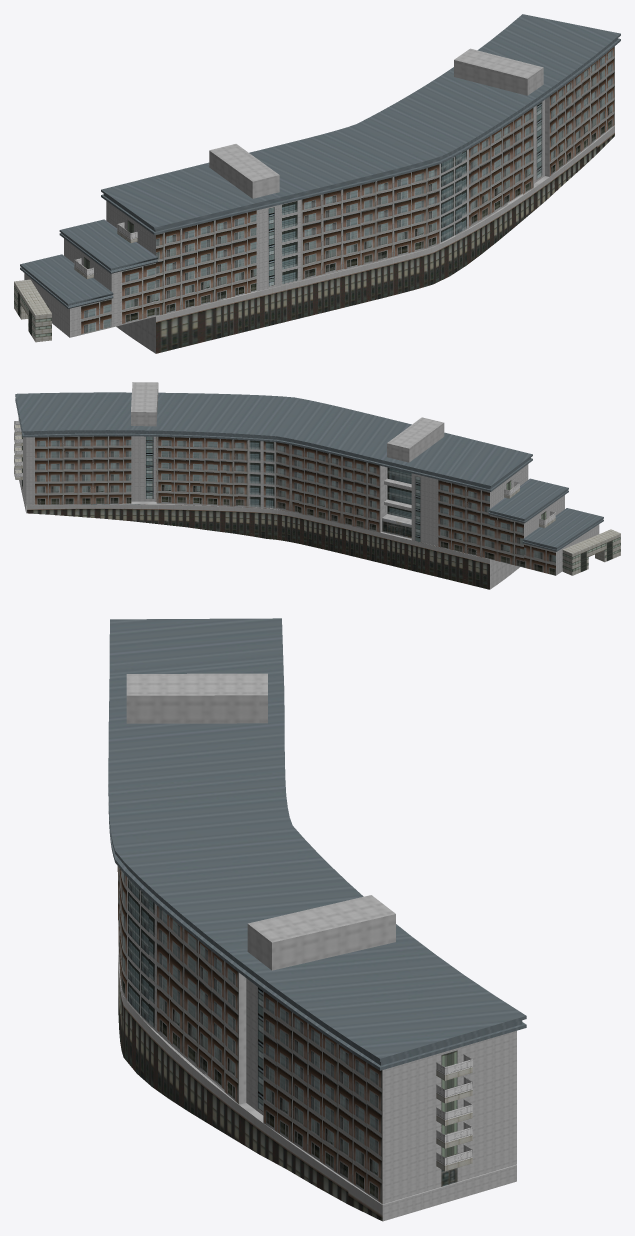
3 renders of one model, top to bottom at view 1: azimuth 30°, elevation 25°; view 2: azimuth 150°, elevation 25°; view 3: azimuth 270°, elevation 25°, orthographic. The views are drawn at different scales.
Parts seen in each view (by area): view 1: MainBuilding; view 2: MainBuilding; view 3: MainBuilding.
Part boxes in pixels (x1,y1,x2,y2): MainBuilding: (14,14,620,353); MainBuilding: (14,382,620,589); MainBuilding: (108,618,526,1221).
Bounding box in the file's own units: 1.42 × 0.2985 × 0.4729.
Materials: 1 (1 with a texture image).
